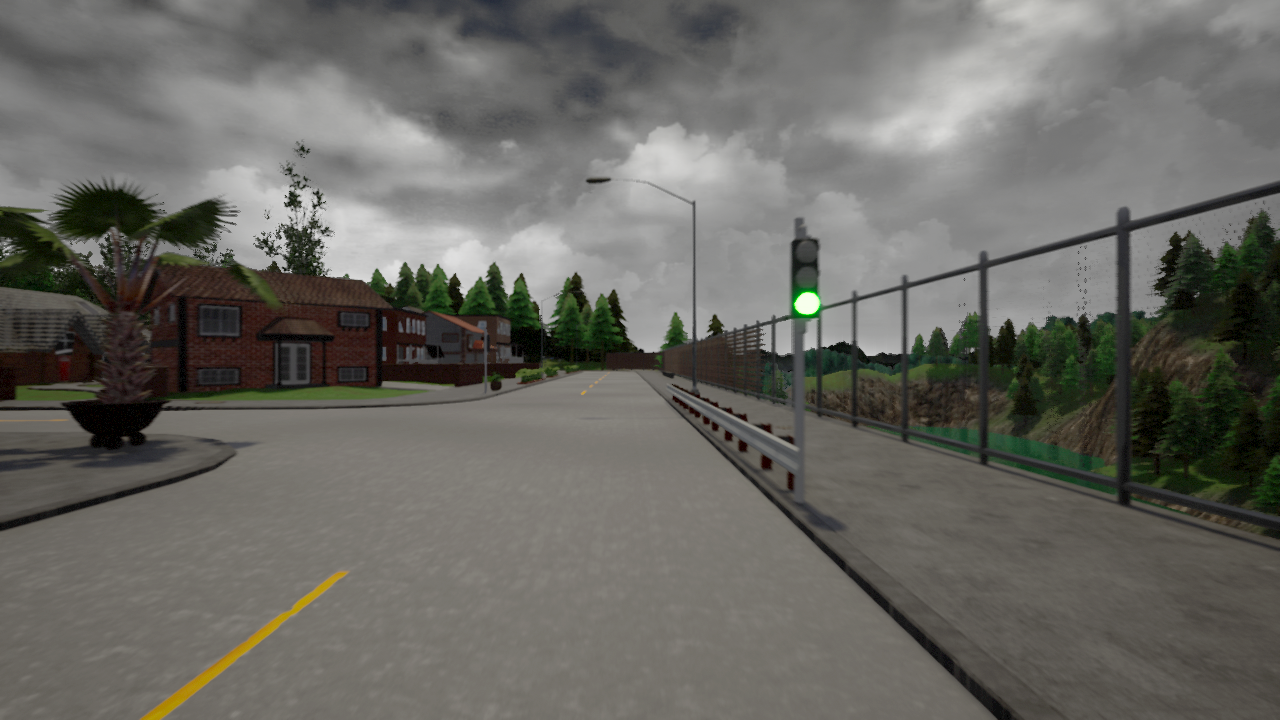green: (788, 236, 821, 316)
